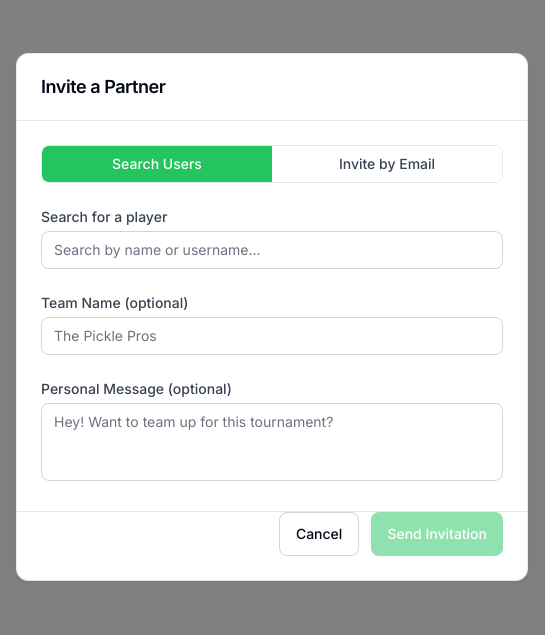
Scenario: PartnerInviteModal › User Search Autocomplete › shows no results message when search returns empty
The image size is (545, 635).
Type "xyz" into the field with placeholder "Search by name or username...". click: (272, 250)
box: [41,231,503,269]
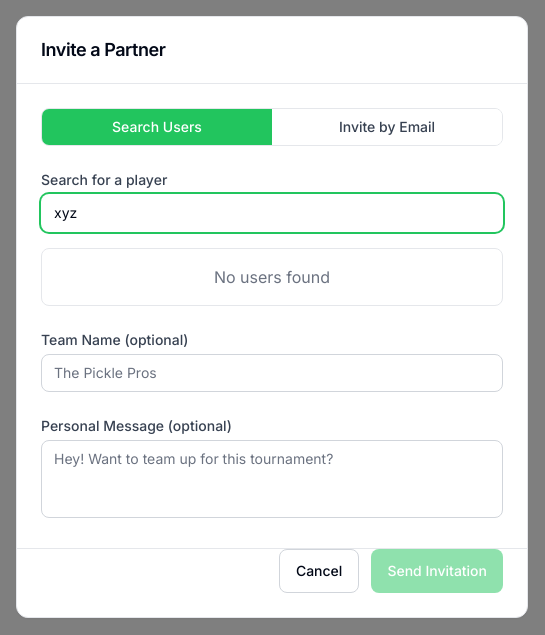
Check: the text "No users found" is shown, box [214,267,330,287]
